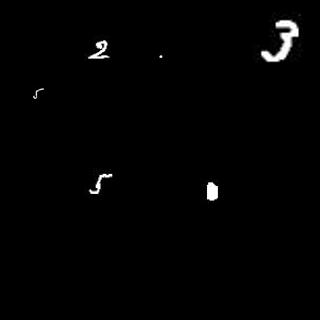dot: (206, 178, 221, 203), (158, 52, 165, 60)
five: (87, 173, 116, 195), (33, 81, 45, 99)
three: (254, 15, 301, 67)
two: (87, 37, 112, 65)
